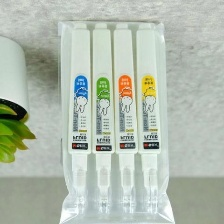correction_fluid: (110, 21, 141, 216), (65, 22, 94, 220), (133, 21, 162, 218), (89, 21, 117, 221)
